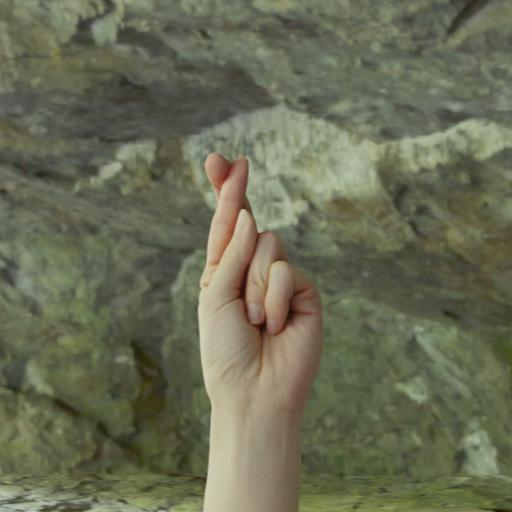R: (194, 150, 326, 400)
